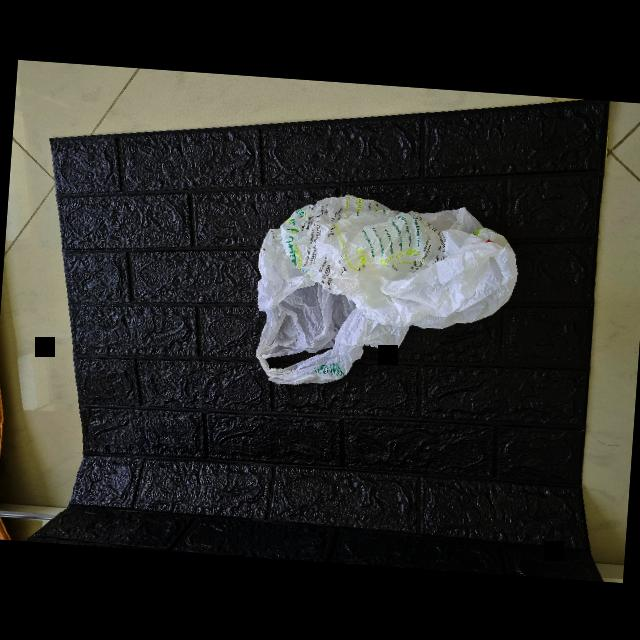plastic_bag: (249, 186, 516, 401)
